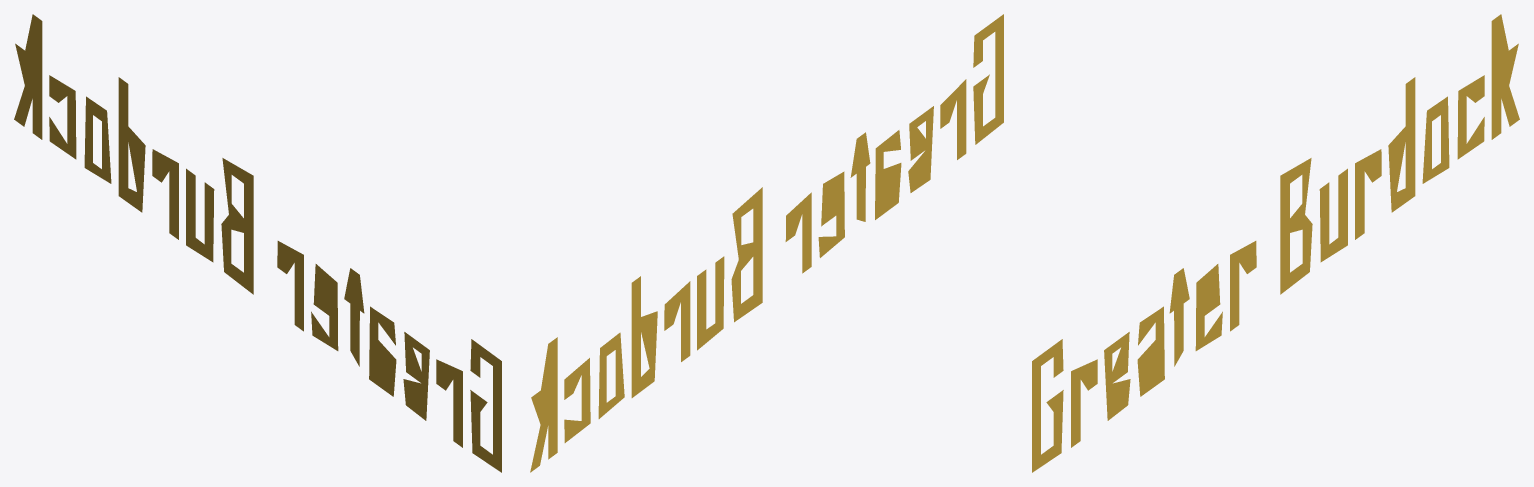
The model's file is veg-60.glb.
The picture shows the model from 3 angles, left to right: view 1: azimuth 30°, elevation 25°; view 2: azimuth 150°, elevation 25°; view 3: azimuth 330°, elevation 25°; orthographic projection. The views are drawn at different scales.
Parts seen in each view (by area): view 1: Text.007_60; view 2: Text.007_60; view 3: Text.007_60.
Part boxes in pixels (x1,y1,x2,y2): Text.007_60: [14, 14, 501, 472]; Text.007_60: [530, 14, 1003, 472]; Text.007_60: [1032, 14, 1519, 472].
Bounding box in the file's own units: 5.54e-08 × 0.0758 × 0.5623.
